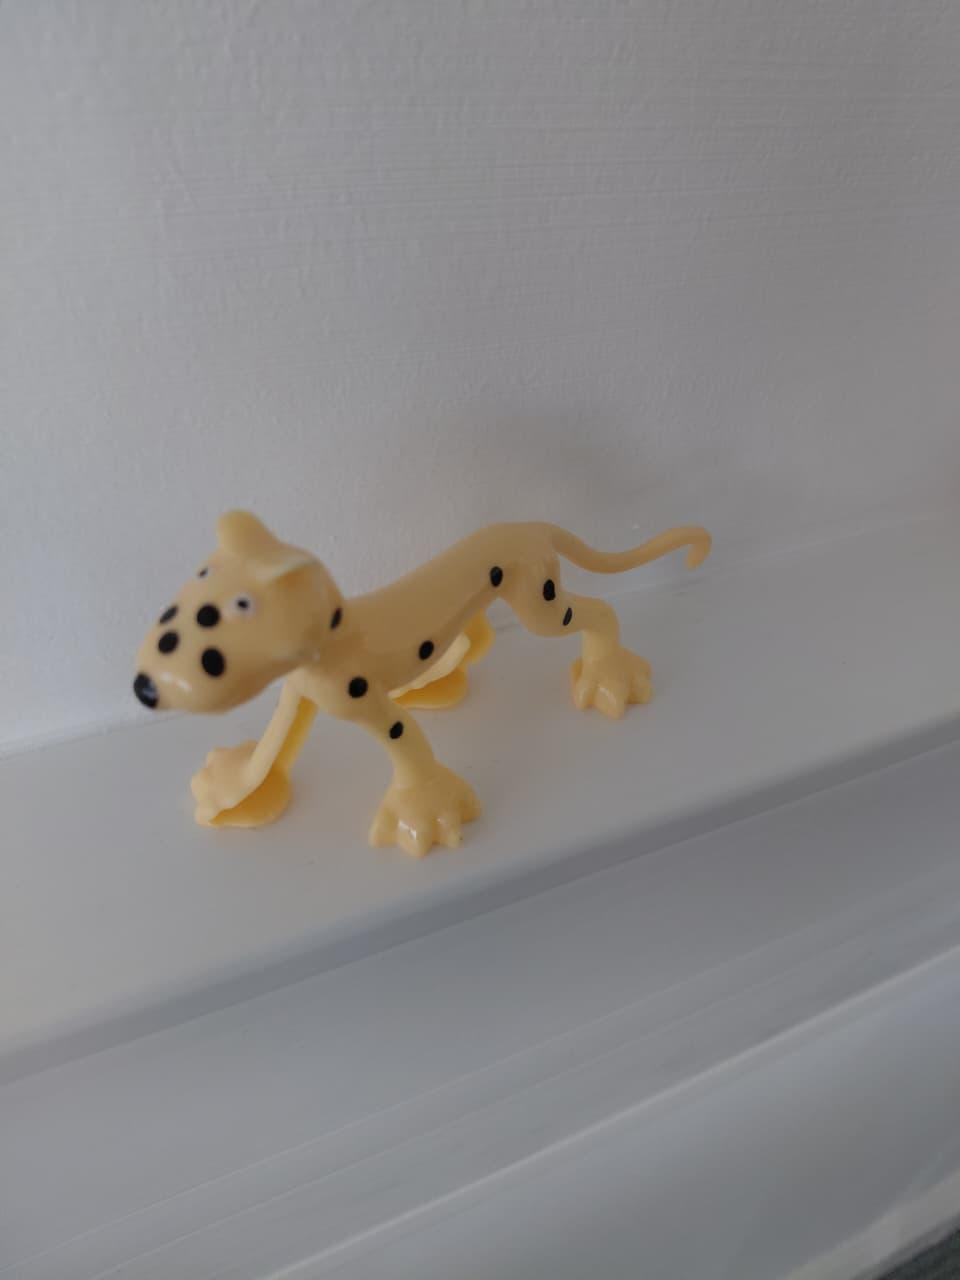cheetah: (110, 488, 724, 889)
